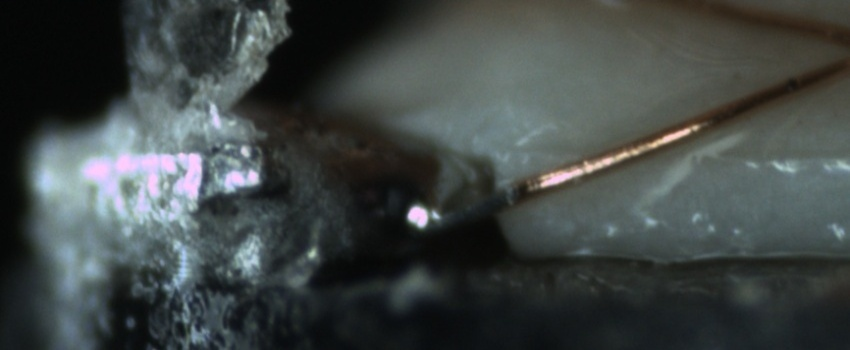TS: (421, 182, 516, 234)
